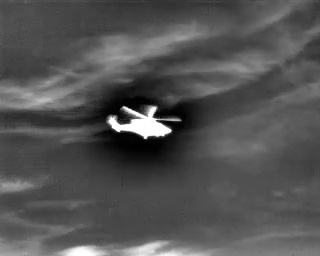HELICOPTER: (105, 99, 186, 147)
